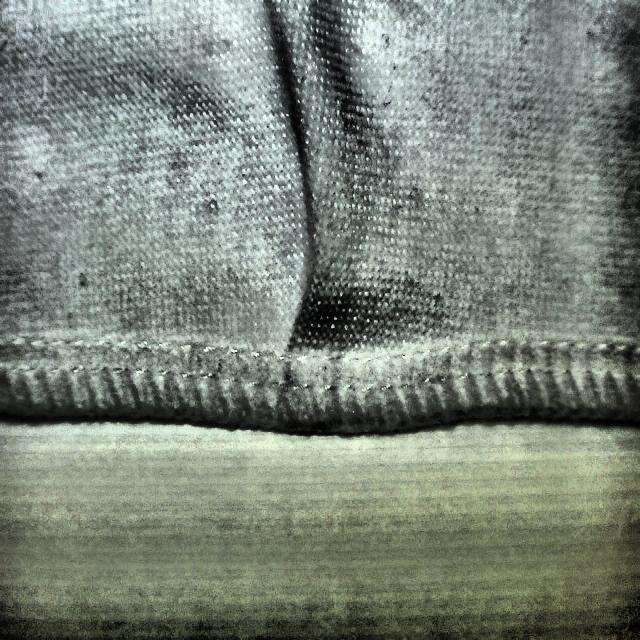gray stitch: (247, 169, 377, 434)
